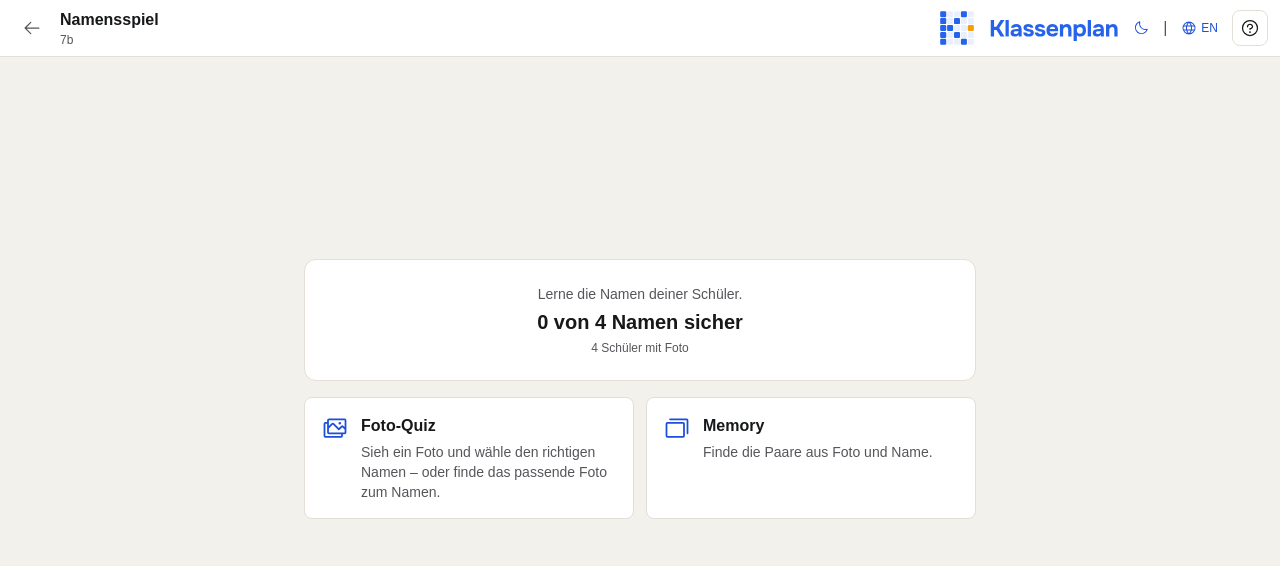
Test case: NameGame › steps back from a game to the choice of game first
Click the button "Memory Finde die Paare aus Foto und Name.": (811, 458) [646, 396, 976, 518]
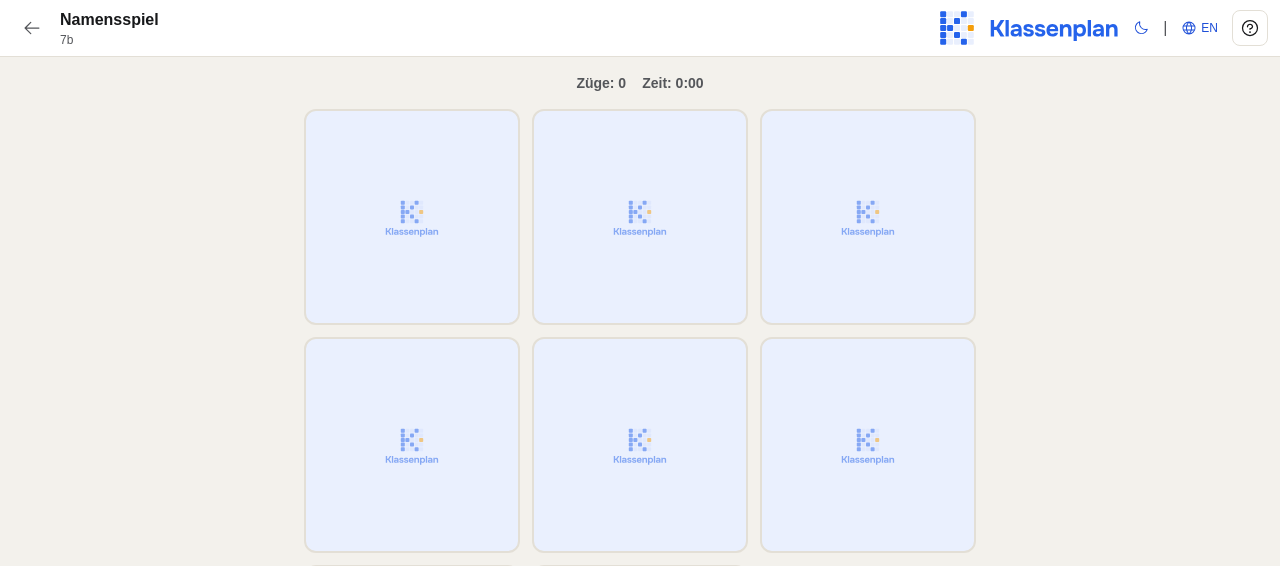
Check: the button "Foto-Quiz" is gone
Click the button named "Zurück": (32, 28) [12, 8, 52, 48]
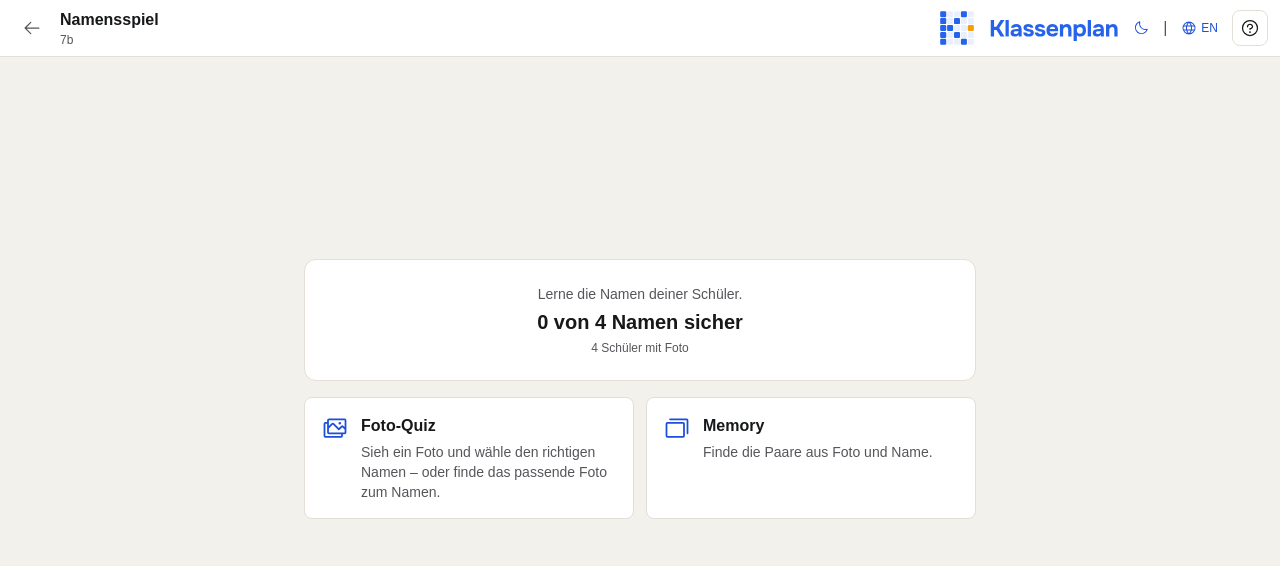
Check: the button that starts with "Foto-Quiz" is shown, box [304, 396, 634, 518]
